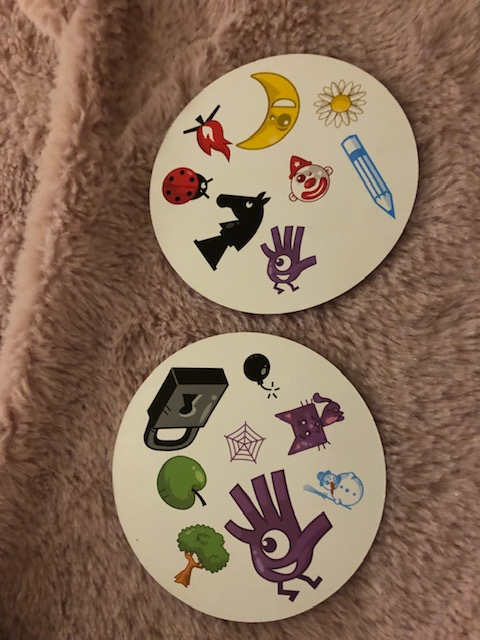arbre: (169, 519, 231, 590)
bombe: (240, 351, 280, 402)
bonhomme_neige: (301, 462, 364, 512)
cadenas: (142, 364, 233, 456)
chat: (269, 388, 349, 461)
cheval: (193, 191, 274, 270)
clown: (282, 149, 337, 208)
coccinelle: (160, 163, 217, 208)
crayon: (338, 131, 401, 221)
dooble: (221, 462, 334, 602), (258, 219, 318, 295)
feu: (182, 103, 238, 162)
fleur: (312, 75, 371, 132)
lune: (237, 69, 302, 154)
pomme: (154, 451, 214, 519)
toile: (219, 416, 269, 465)
